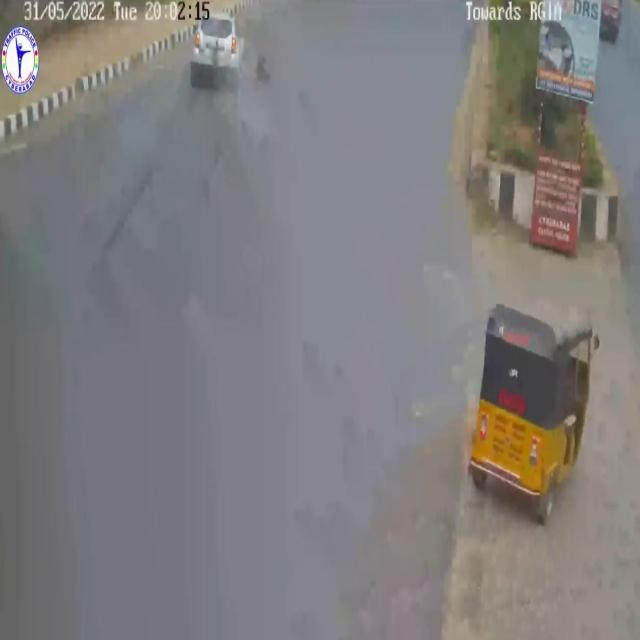accident: (183, 4, 277, 108)
